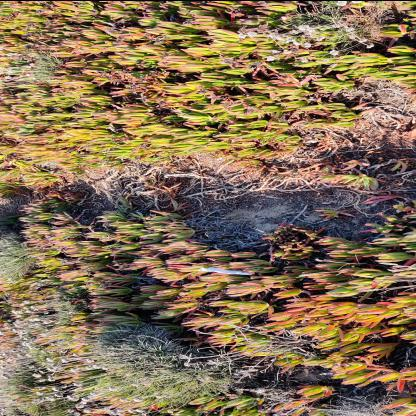kagit: (199, 267, 253, 277)
